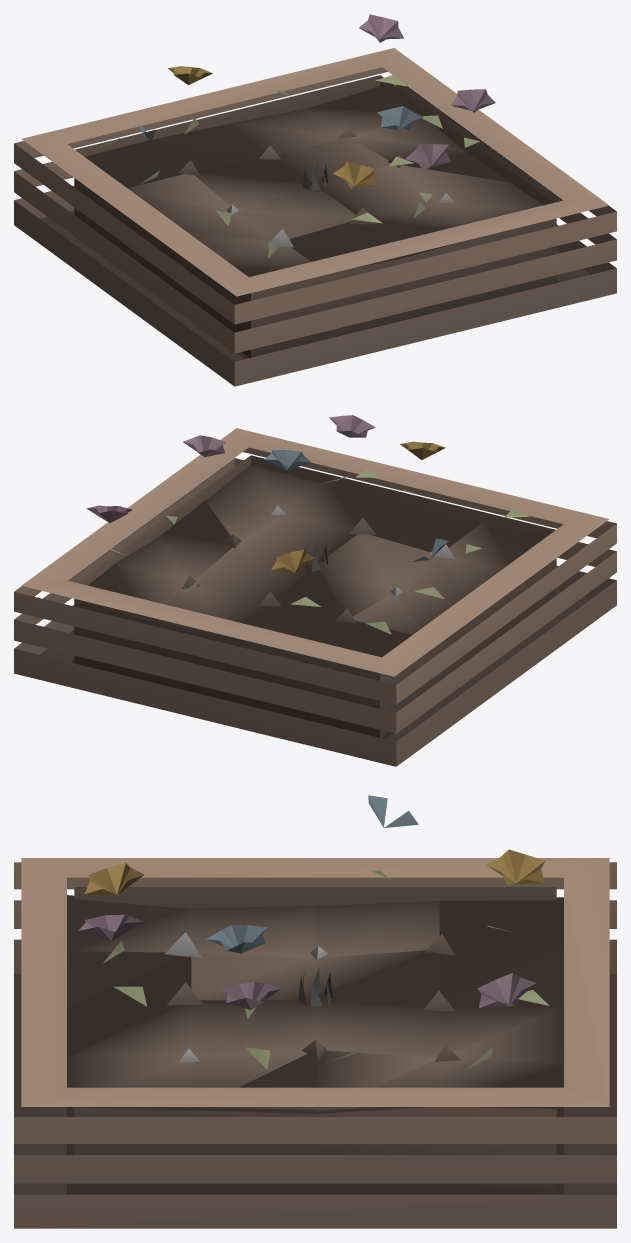
File: flowers.lod.glb
3 views of the same model, one above another, from view 1: azimuth 30°, elevation 25°; view 2: azimuth 150°, elevation 25°; view 3: azimuth 270°, elevation 25° (orthographic). The views are drawn at different scales.
Parts seen in each view (by area): view 1: flowers; view 2: flowers; view 3: flowers.
Boxes of the visible parts, left/top/right/bottom form: flowers: left=14, top=14, right=616, bottom=386; flowers: left=14, top=415, right=616, bottom=766; flowers: left=14, top=795, right=616, bottom=1228.
Size of the model in its own units: 1.4 by 0.5396 by 1.4.
